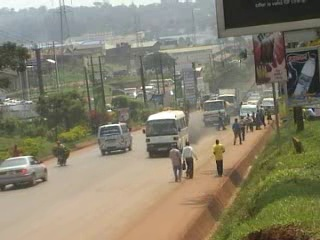Car: (1, 153, 50, 189)
Motorcycle: (52, 139, 71, 167)
